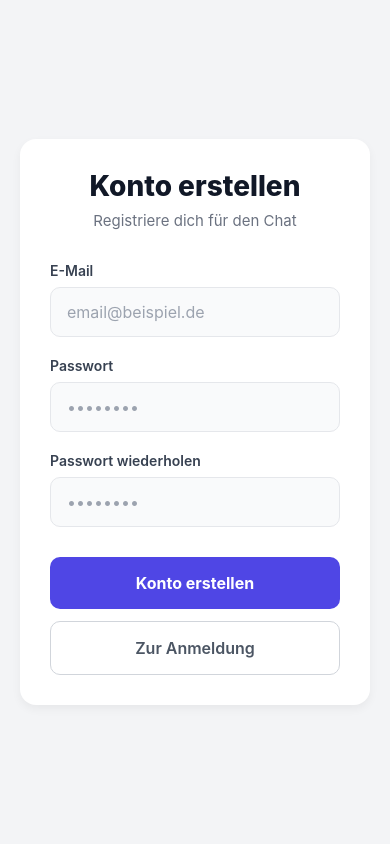
it: RegisterScreen › verhindert Registrierung, wenn Passwörter nicht übereinstimmen
Type "test@mail.de" into the field with placeholder "email@beispiel.de" at point(195, 312), box [50,287,340,337]
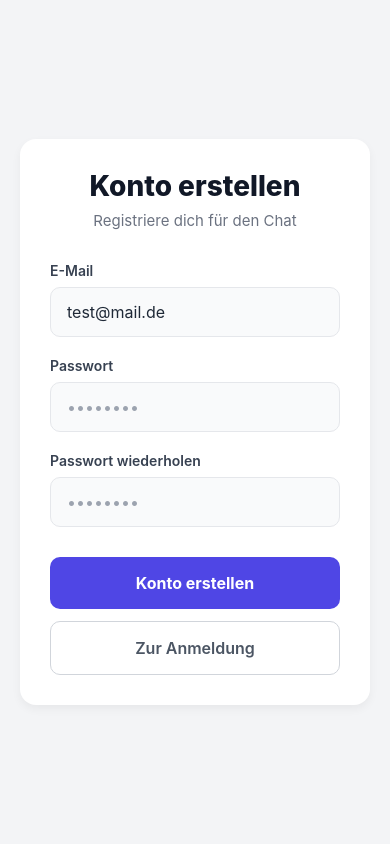
Type "passwort123" into the 1st password field with placeholder "••••••••" at point(195, 407), box [50,382,340,432]
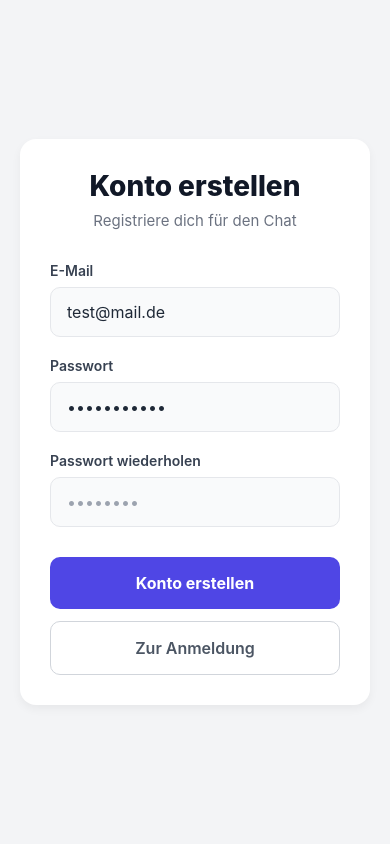
Type "passwort456" into the password field with placeholder "••••••••" at point(195, 502), box [50,477,340,527]
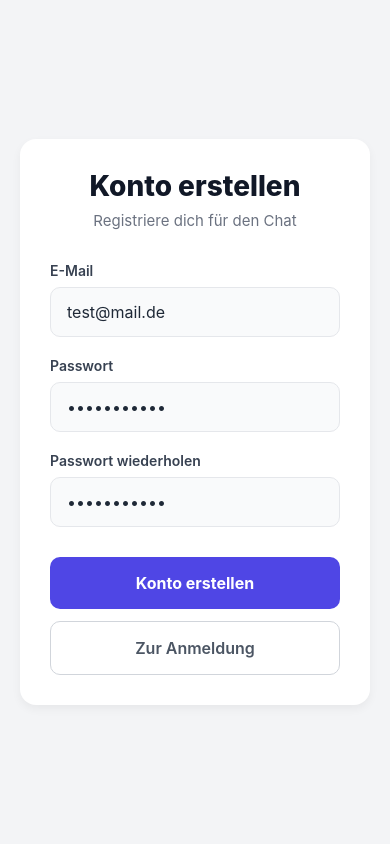
Click the 2nd text "Konto erstellen" at point(195, 583), box [136,573,254,593]
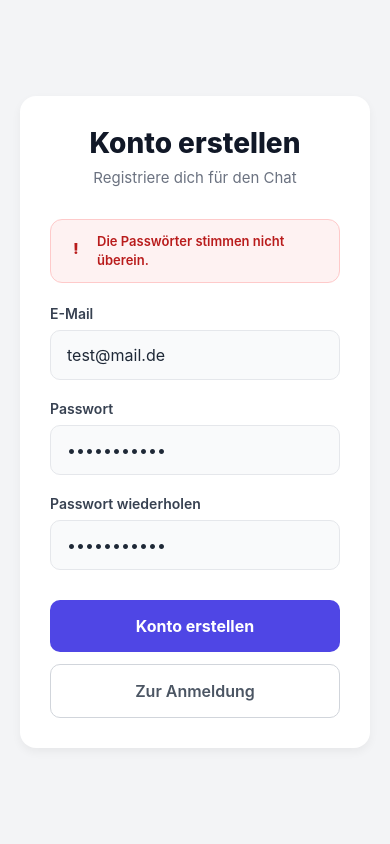
Check: the text "Die Passwörter stimmen nicht überein." is shown, box [97,233,288,268]
